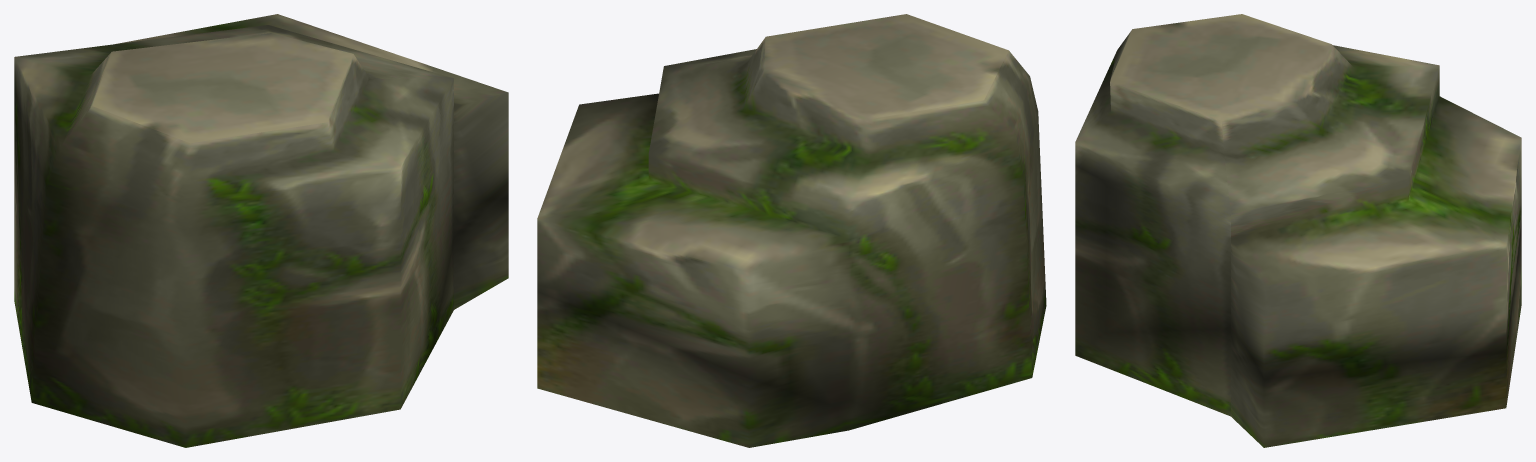
The model's file is RockFormation_4_5 (45).fbx.
3 renders of one model, left to right at view 1: azimuth 30°, elevation 25°; view 2: azimuth 150°, elevation 25°; view 3: azimuth 270°, elevation 25°, orthographic. The views are drawn at different scales.
Visible parts, largest first — view 1: RockFormation_4_5 (45); view 2: RockFormation_4_5 (45); view 3: RockFormation_4_5 (45).
Boxes of the visible parts, <box> form: RockFormation_4_5 (45): <box>14,14,508,447</box>; RockFormation_4_5 (45): <box>537,14,1046,447</box>; RockFormation_4_5 (45): <box>1075,14,1521,447</box>.
Size of the model in its own units: 144 by 81.23 by 131.
